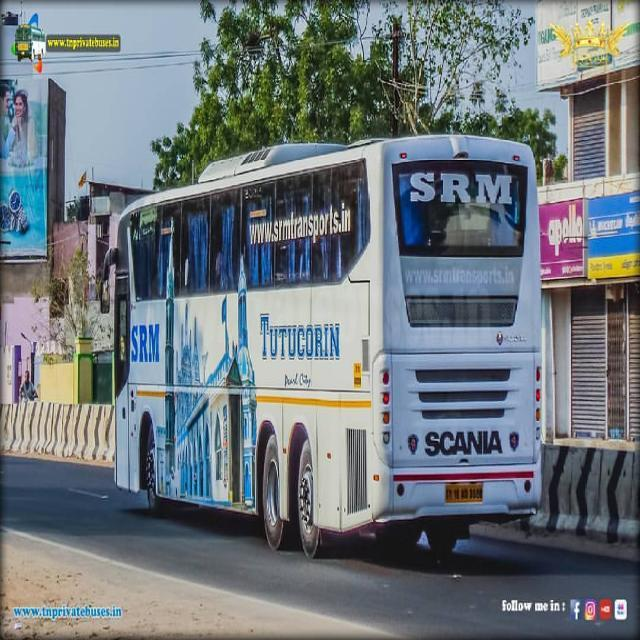Bus: (97, 126, 544, 562)
